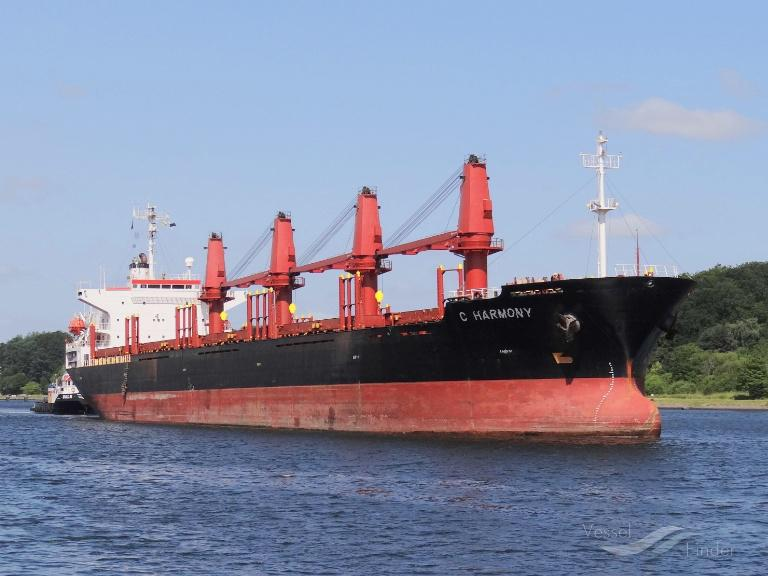OCR: (450, 302, 534, 326)
